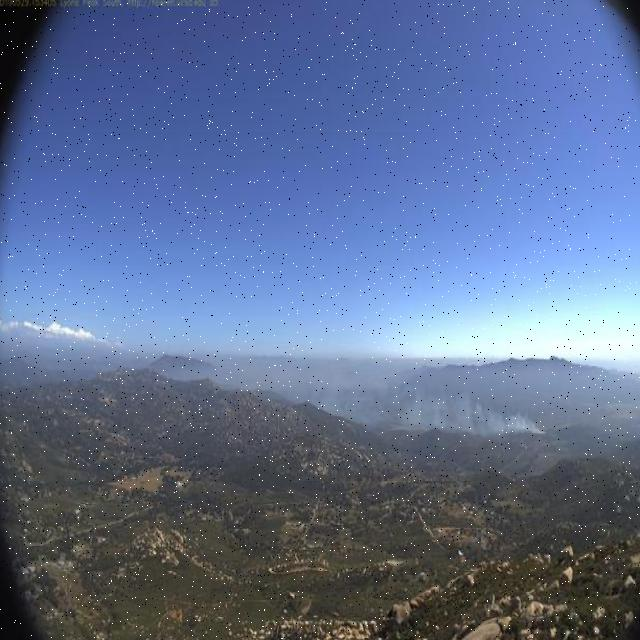smoke: (336, 370, 542, 440)
